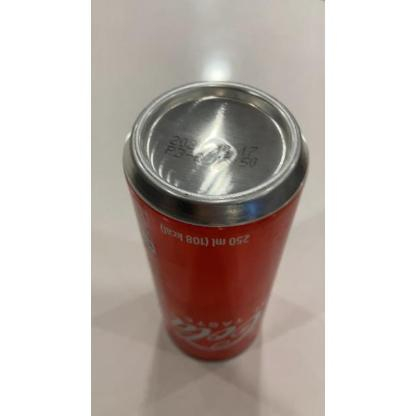Can: (122, 80, 310, 362)
